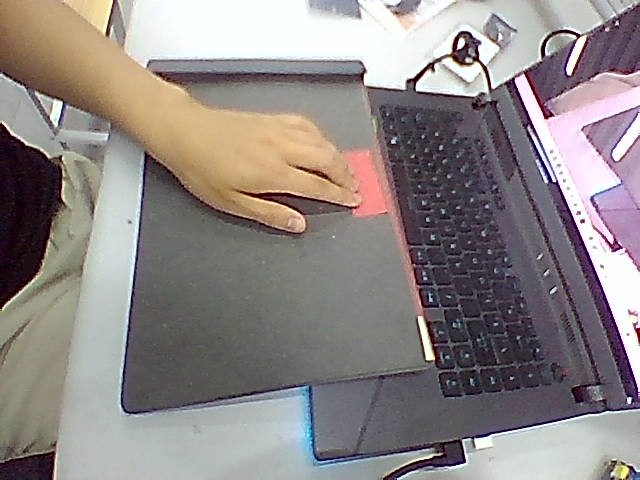card: (346, 151, 387, 217)
